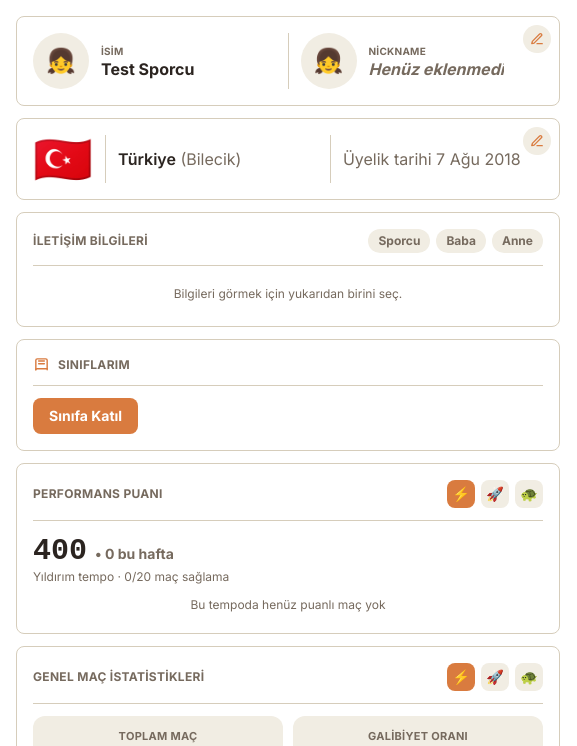
Test: Profil sayfası — İletişim Bilgileri kartı (madde 2026-09-07, GRUP C) › "Baba" seçilince eksik e-posta "E-posta girilmedi" olarak gösterilir
The width and height of the screenshot is (577, 746).
Expected: the text "İletişim Bilgileri" is shown, [33,233,148,249]
Click the button "Baba".
click(461, 241)  # box [436,229,486,253]
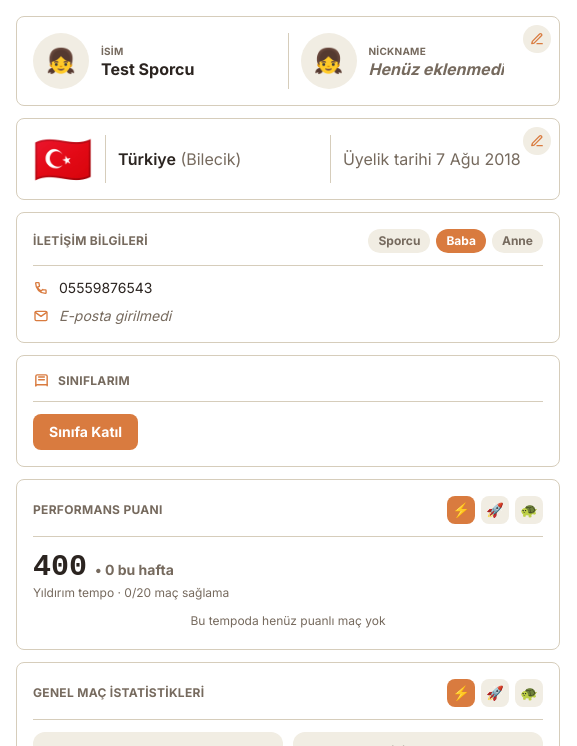
Now the text "05559876543" is shown, box [59,278,152,298]
Now the text "E-posta girilmedi" is shown, box [59,306,171,326]
